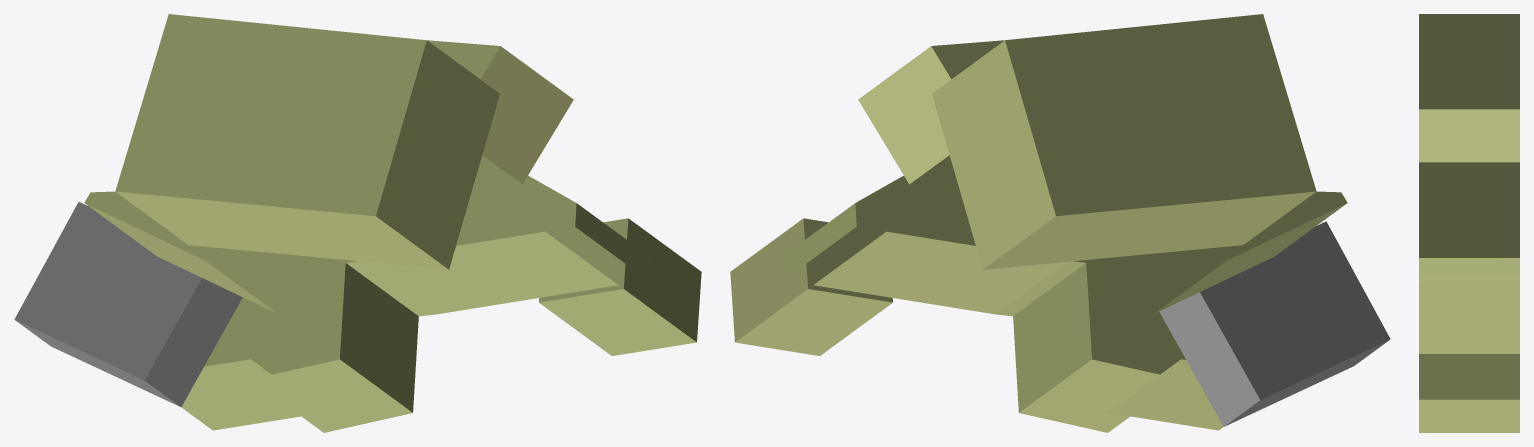
3 views of the same model, side by side, from view 1: azimuth 30°, elevation 25°; view 2: azimuth 150°, elevation 25°; view 3: azimuth 270°, elevation 25° (orthographic). The views are drawn at different scales.
Visible parts, largest first — view 1: 0_3_1_0_3_3_0; view 2: 0_3_1_0_3_3_0; view 3: 0_3_1_0_3_3_0.
Boxes of the visible parts, box(x1,y1,x2,y2) form: 0_3_1_0_3_3_0: box(14, 14, 701, 432); 0_3_1_0_3_3_0: box(730, 14, 1390, 432); 0_3_1_0_3_3_0: box(1419, 14, 1519, 432).
Size of the model in its own units: 29.29 by 17.51 by 6.
